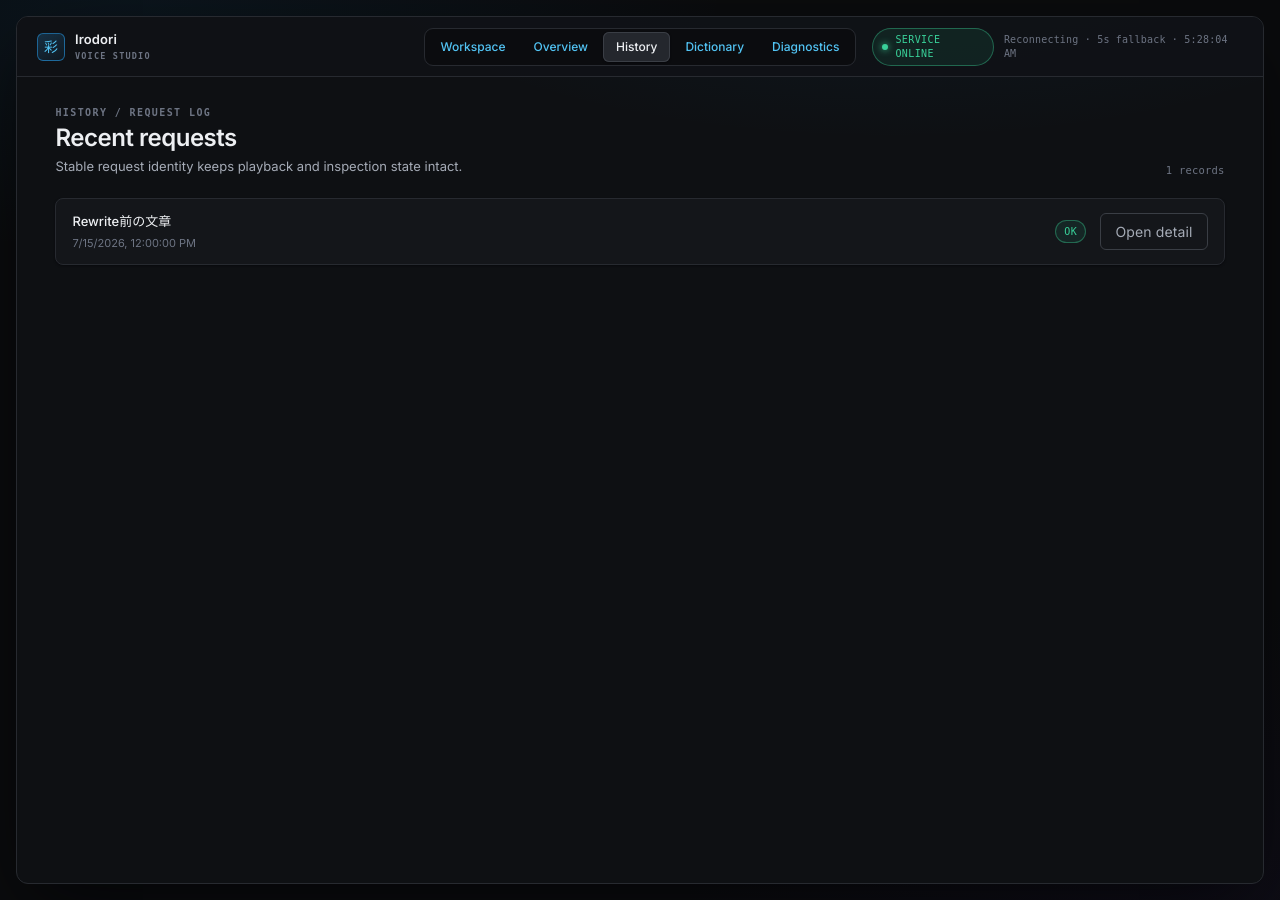
Test: History request detail › shows transcript comparison, timing hierarchy, and useful metadata
Expected: the text "Rewrite前の文章" is shown, x1=72 y1=213 x2=171 y2=229
Click the button "Open detail". click: click(1154, 232)
box: x1=1100 y1=213 x2=1208 y2=250
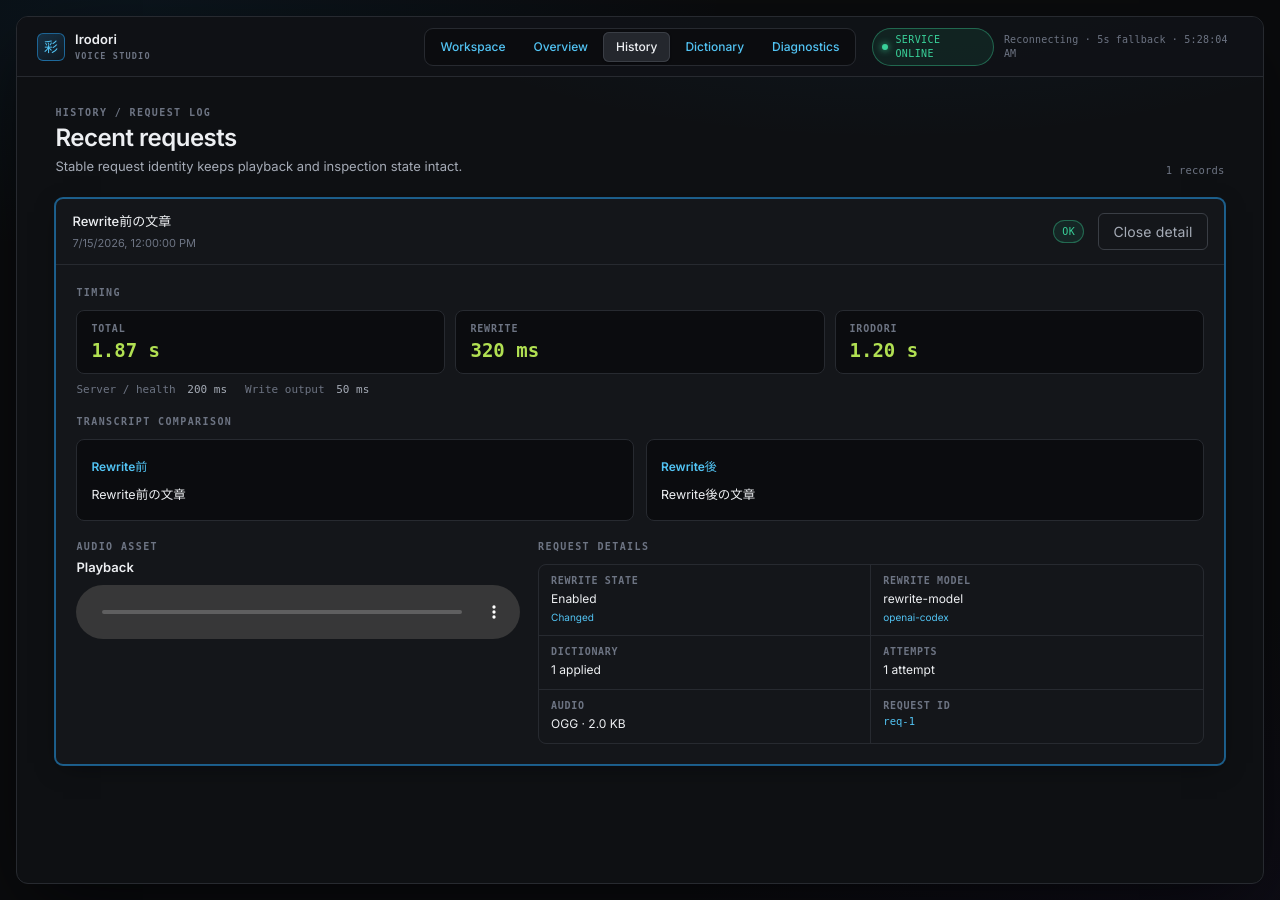
Now the text "Rewrite後の文章" is shown, box x1=661 y1=487 x2=755 y2=502
Now the heading "Rewrite前" is shown, box x1=91 y1=459 x2=147 y2=474
Now the heading "Rewrite後" is shown, box x1=661 y1=459 x2=717 y2=474
